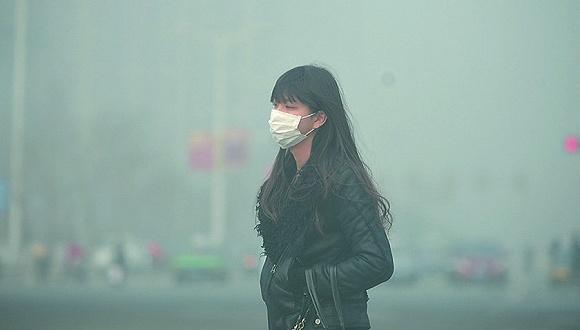car: (450, 238, 509, 285), (172, 238, 227, 283), (548, 246, 580, 287)
person: (252, 64, 395, 330), (61, 239, 88, 280), (31, 240, 51, 289), (144, 238, 164, 271)
